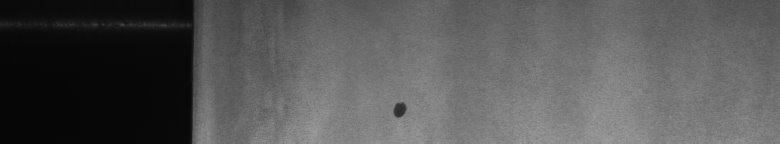fi: (388, 96, 413, 128)
